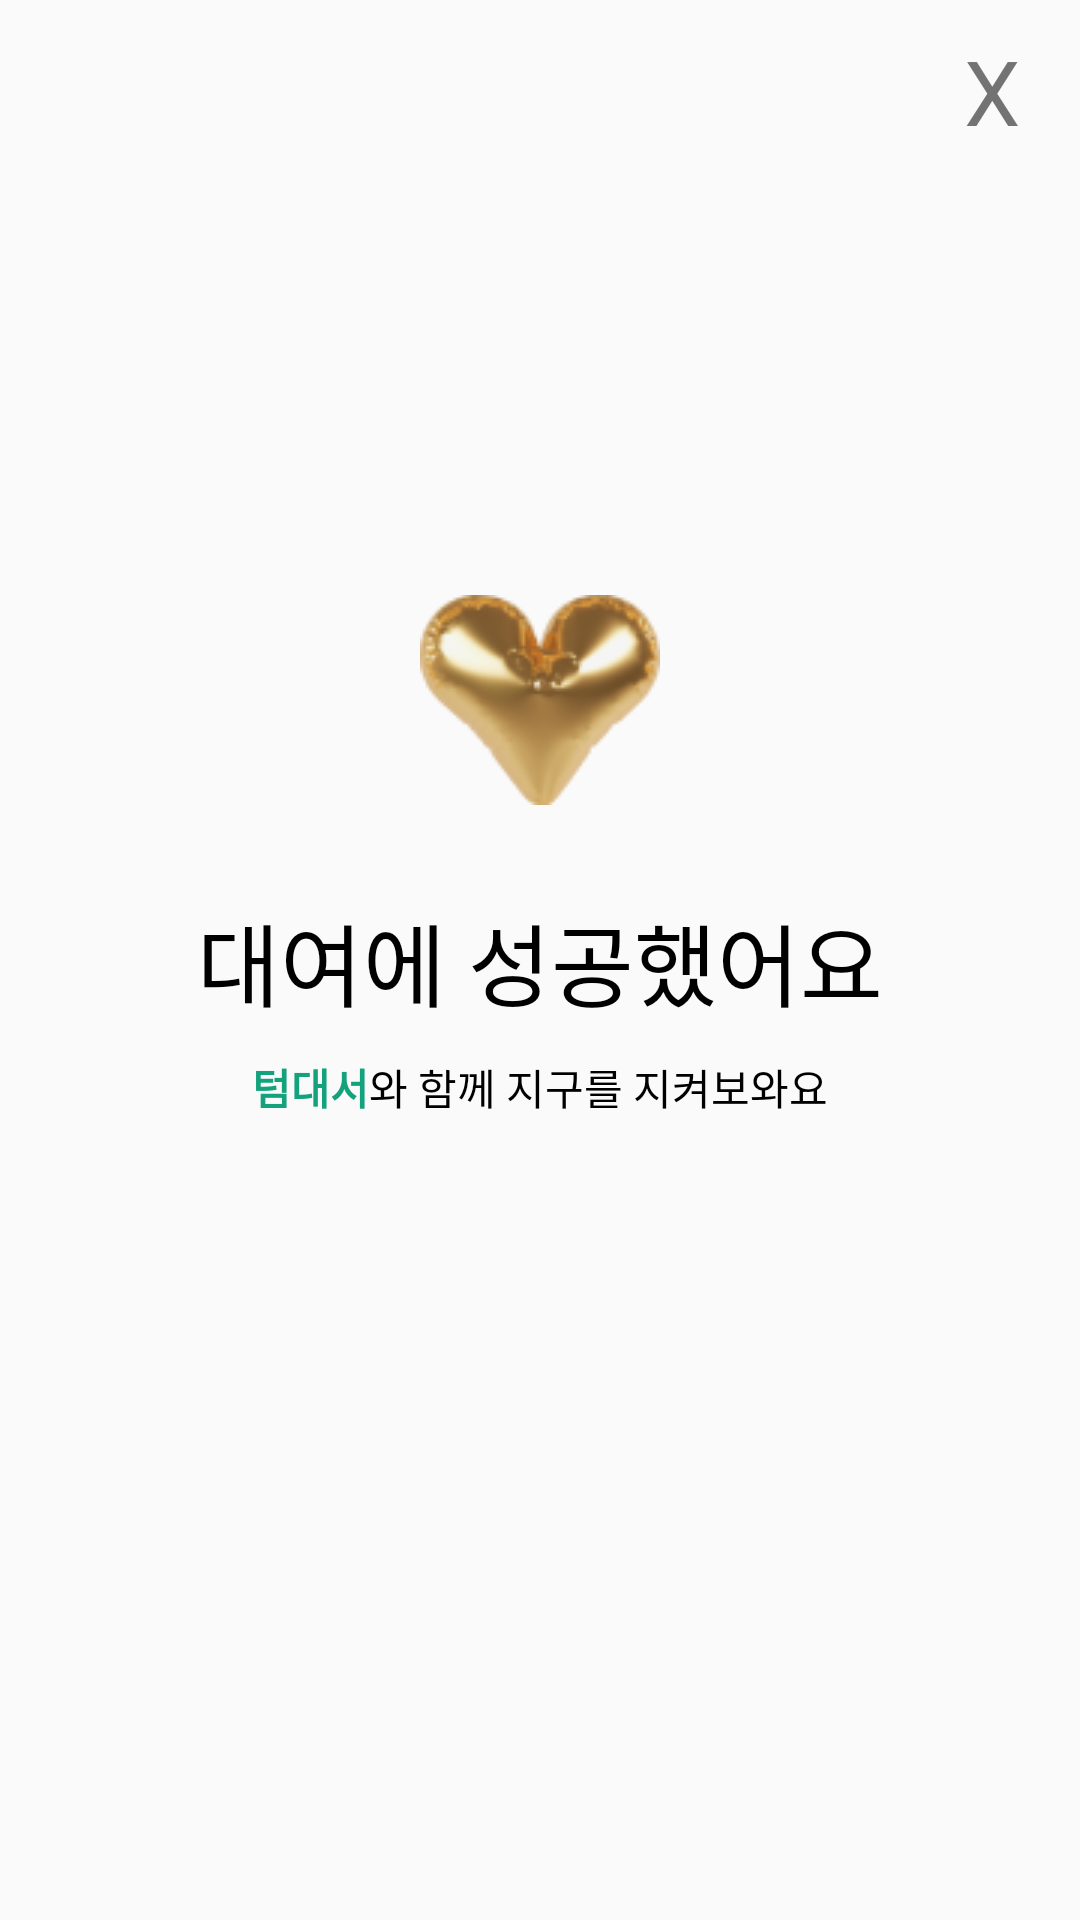

Named icons in this screenshot (1080 x 1920) and their centers, point (x, y):
heart ballon: point (540, 700)
